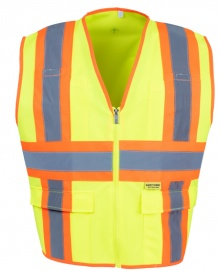safety vest: (14, 10, 212, 266)
